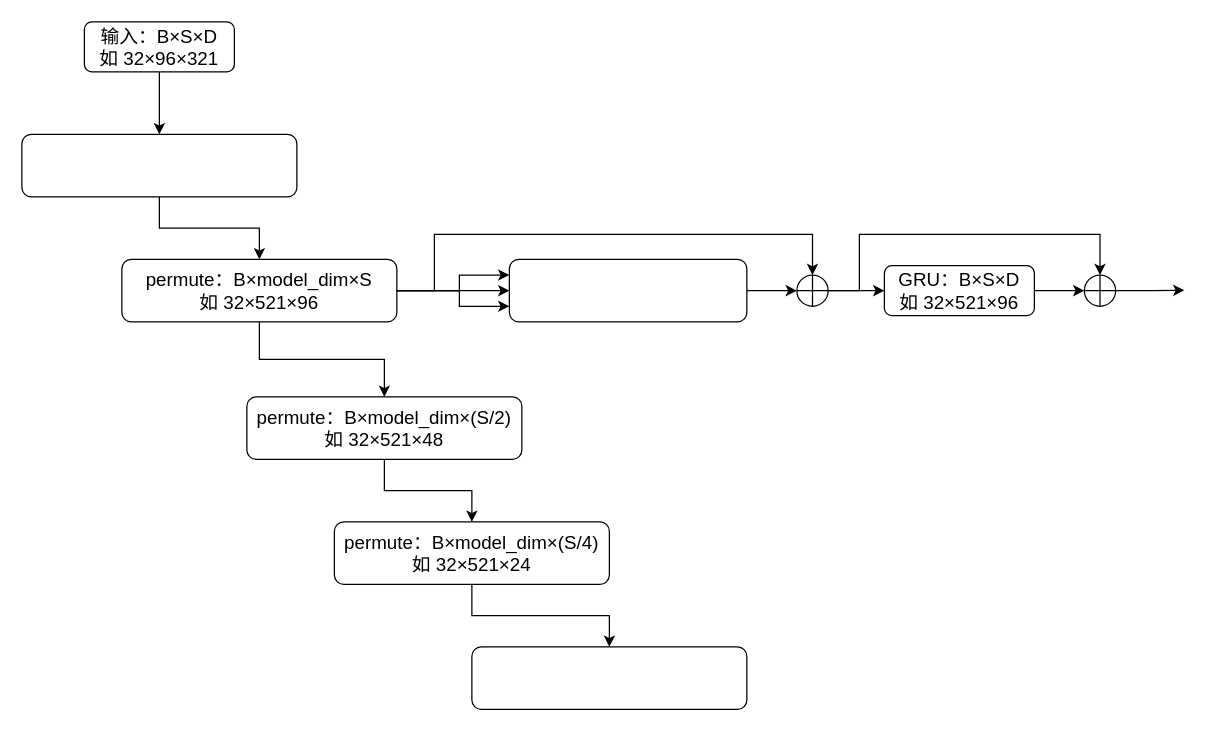
This 1216x731 diagram has some shape labels left out. Each missing label, with the centre of its shape:
"AutoCorrelation：B×S×D out： 32×521×96" belongs at (x=627, y=290).
"permute：B×model_dim ×(S/8) 如 32×521×12" belongs at (x=609, y=677).
"通道嵌入：B×S×model_dim 如 32×96×521" belongs at (x=159, y=165).
